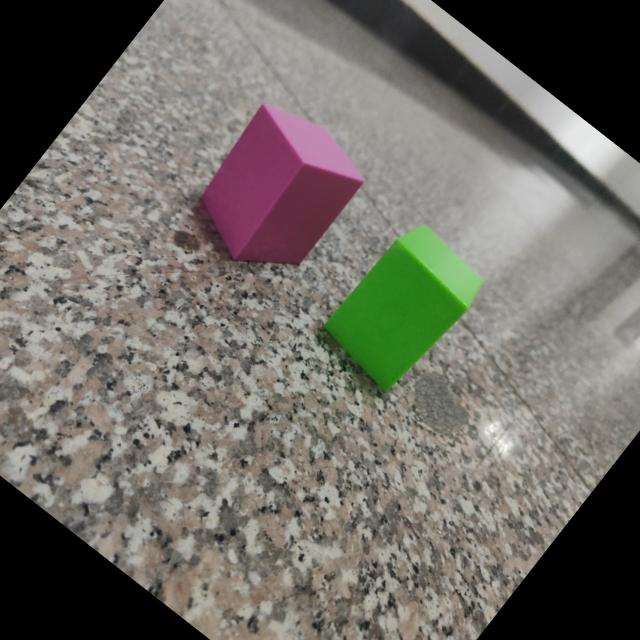green: (320, 227, 482, 396)
pink: (199, 104, 363, 268)
